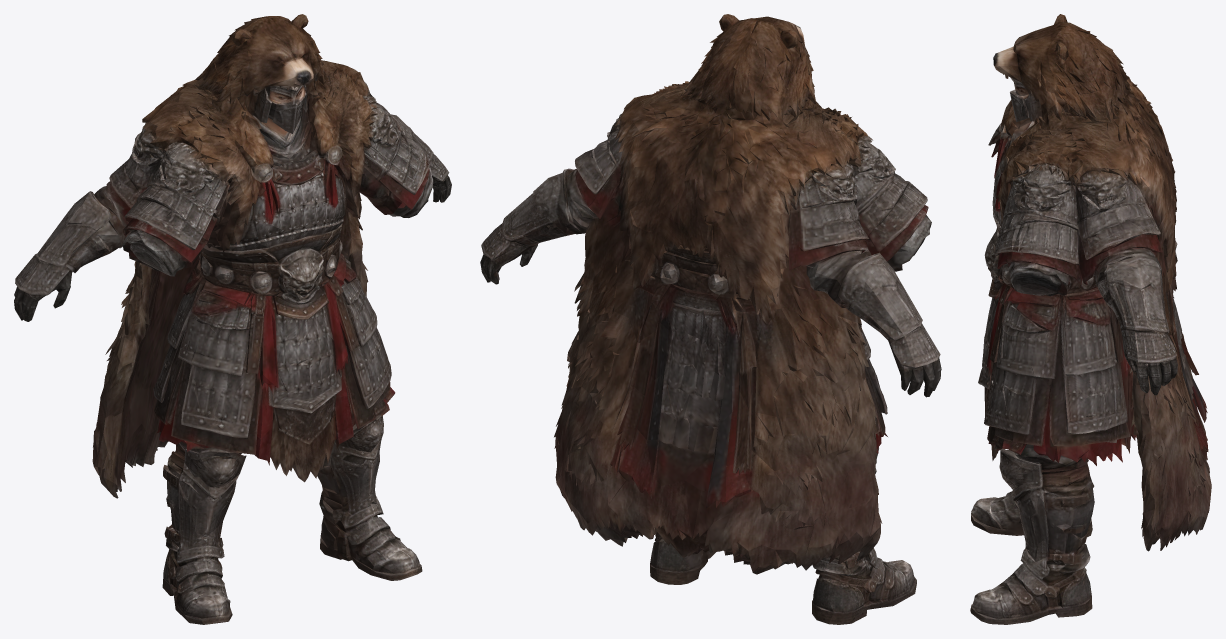
The model's file is glb.glb.
The picture shows the model from 3 angles, left to right: view 1: azimuth 30°, elevation 25°; view 2: azimuth 150°, elevation 25°; view 3: azimuth 270°, elevation 25°; orthographic projection. The views are drawn at different scales.
Size of the model in its own units: 1.57 by 1.9 by 0.7659.
1 material, 1 textured.
